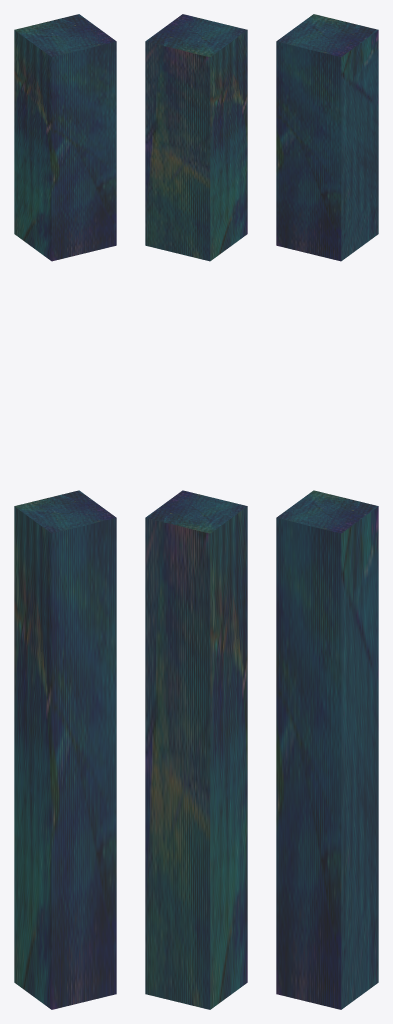
The model's file is obs4.glb.
3 renders of one model, left to right at view 1: azimuth 30°, elevation 25°; view 2: azimuth 150°, elevation 25°; view 3: azimuth 330°, elevation 25°, orthographic.
Parts seen in each view (by area): view 1: obs41; view 2: obs41; view 3: obs41.
Boxes of the visible parts, box(x1,y1,x2,y2) form: obs41: box(14, 14, 116, 1009); obs41: box(145, 14, 247, 1009); obs41: box(276, 14, 378, 1009).
Size of the model in its own units: 1 by 14 by 1.
Materials: 1 (1 with a texture image).
